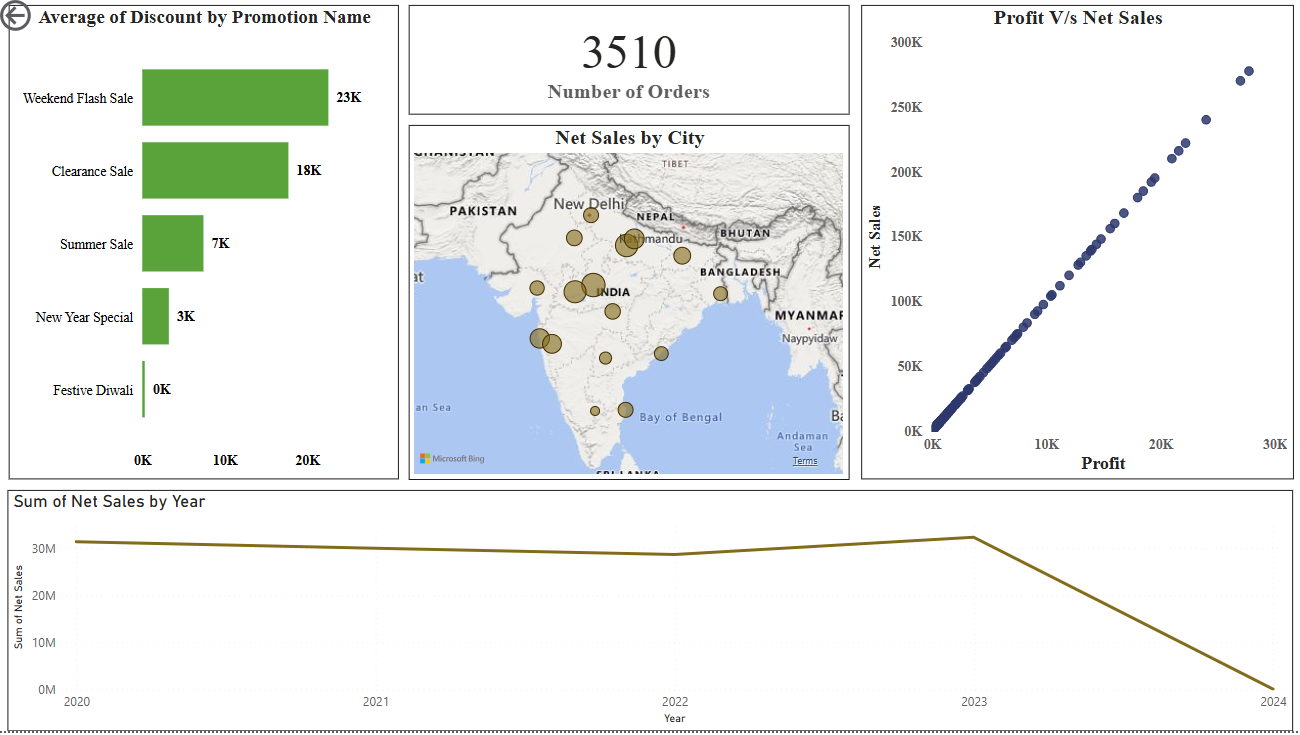

The dashboard page shown, as its layout file describes it:
{"tool":"powerbi","page":{"name":"Overview","canvas":[1280,720],"ordinal":0},"visuals":[{"type":"scatterChart","title":"Profit V/s Net Sales","fields":{"X":["Facts Table.Profit"],"Y":["Facts Table.Net Sales"]},"box":[847.1,10,422.9,464.3],"z":0},{"type":"barChart","fields":{"Category":["Dim Promotion.Promotion Name"],"Y":["Avg(Facts Table.Discount)"]},"box":[12.9,10,381.4,464.3],"z":1000},{"type":"map","title":"Net Sales by City","fields":{"Category":["Dim Customers.City"],"Size":["Sum(Facts Table.Net Sales)"]},"box":[404.3,127.1,431.4,347.1],"z":2000},{"type":"card","fields":{"Values":["Count(Facts Table.Order ID)"]},"box":[404.3,10,431.4,107.1],"z":3000},{"type":"actionButton","box":[0,0,100,40],"z":4000},{"type":"lineChart","fields":{"Y":["Sum(Facts Table.Net Sales)"],"Category":["Facts Table.Year Hierarchy.Year","Facts Table.Year Hierarchy.QuarterLabel","Facts Table.Year Hierarchy.MonthName","Facts Table.Year Hierarchy.Day"]},"box":[12.5,483.8,1257.5,236.2],"z":5000}]}

Visuals, with their boxes in screenshot pixels (x1, y1, x2, y2), scaled from the page's 1280x720 canvas onto the 1300x735 screenshot:
"Profit V/s Net Sales" scatterChart: 860,10,1290,484
barChart - Dim Promotion.Promotion Name x Avg(Facts Table.Discount): 13,10,400,484
"Net Sales by City" map: 411,130,849,484
card - Count(Facts Table.Order ID): 411,10,849,120
actionButton: 0,0,102,41
lineChart - Sum(Facts Table.Net Sales) x Facts Table.Year Hierarchy.Year: 13,494,1290,734
